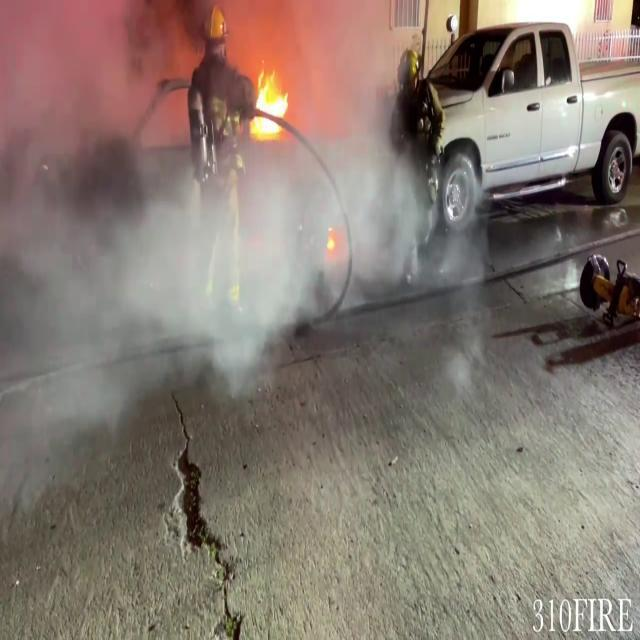Fire: (245, 60, 295, 142)
Smoke: (2, 123, 430, 424)
